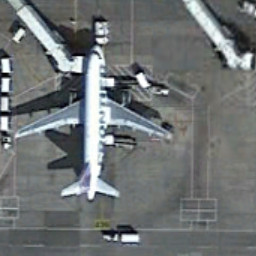Airplane: (7, 35, 181, 214)
